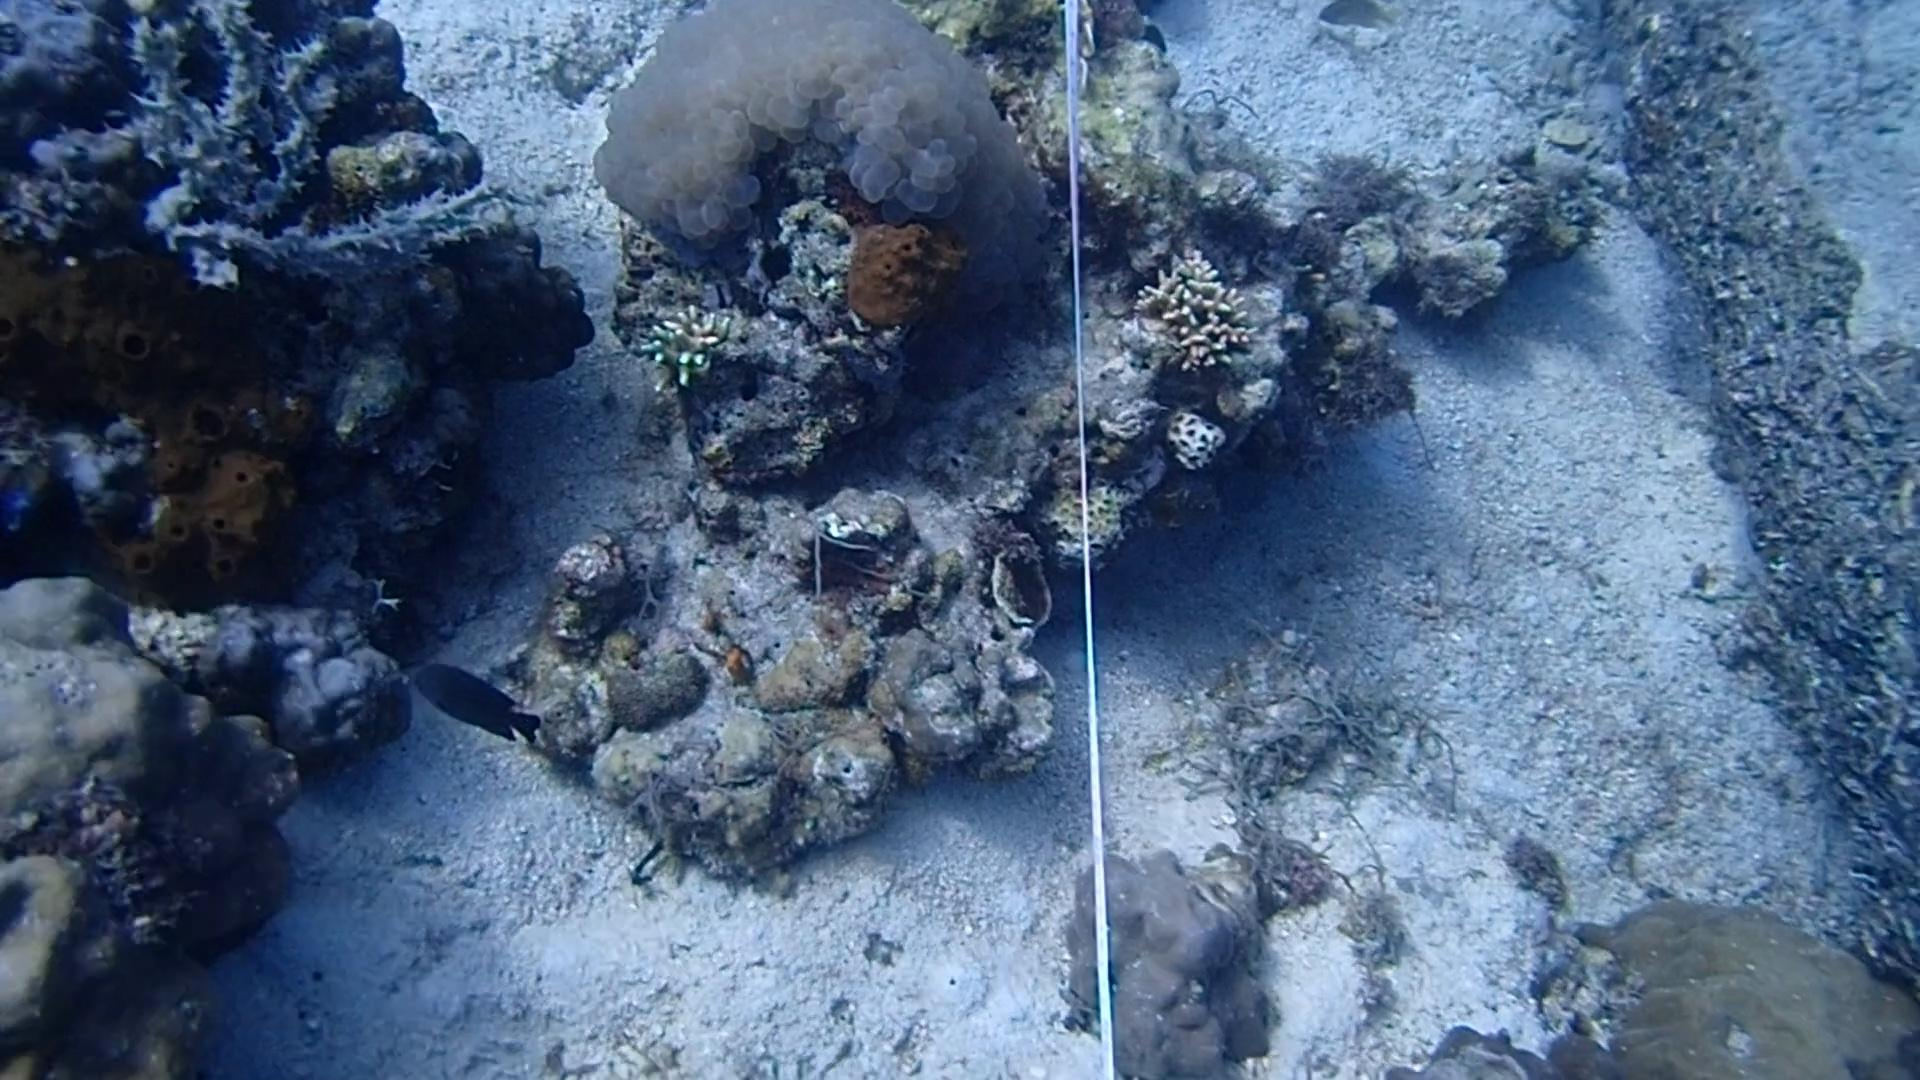Big Dark Blue Fish: (400, 651, 551, 761)
Light Fish: (1312, 0, 1404, 36)
